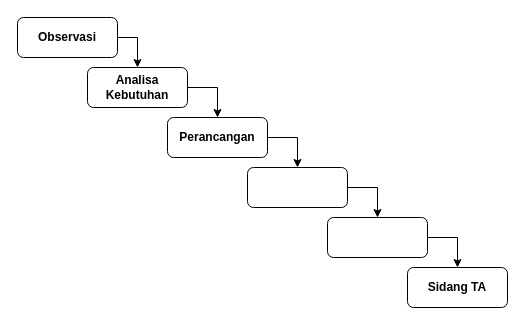
Image size: 525x325. Some labels were removed from this diagram. Here are the shapes that lost their labels. From the top down, the centre of each, then its label:
At point (297, 187): "Implementasi".
At point (377, 237): "Uji lapangan ( field testing )".
